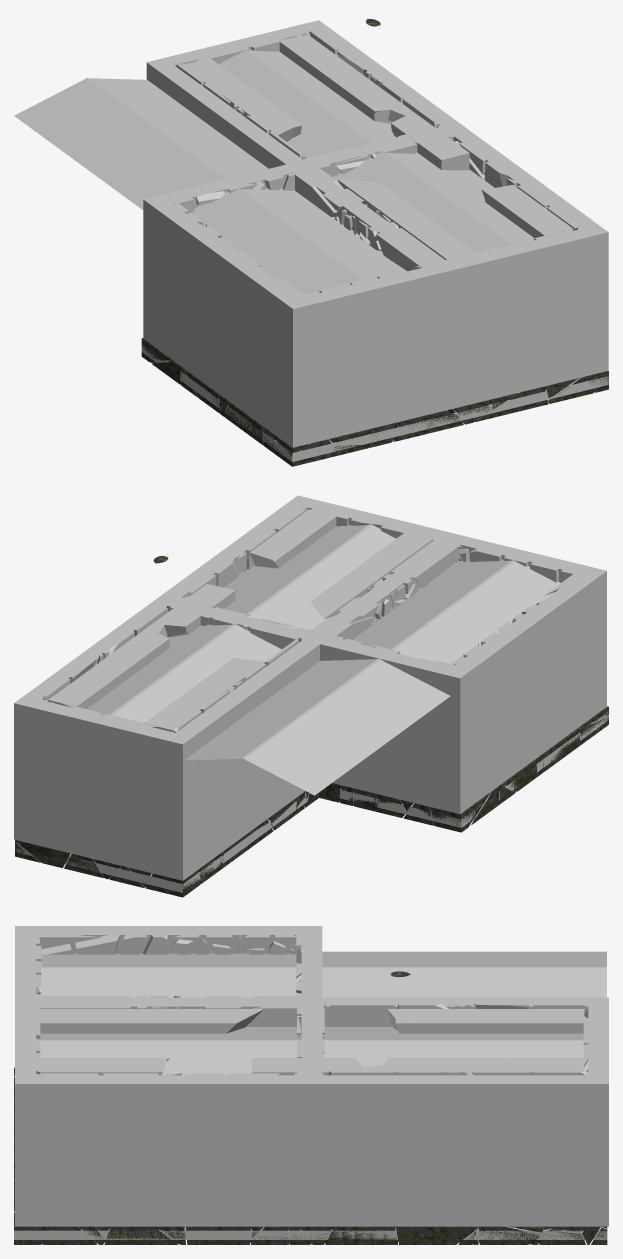
The model's file is Template.fbx.
3 renders of one model, top to bottom at view 1: azimuth 30°, elevation 25°; view 2: azimuth 150°, elevation 25°; view 3: azimuth 270°, elevation 25°, orthographic. The views are drawn at different scales.
Visible parts, largest first — view 1: roof0.001, Wall, Wall.004, Wall.002, roof0, Cube_cell, Gate0.001, FloorCells, Wall.001, Floor, Gate0, Lp_cell.001_cell (+4 smaller); view 2: roof0.001, Gate0, Wall.002, roof0, Wall, Cube_cell, Wall.001, FloorCells, Gate0.001, Floor, Lp_cell.001_cell, Wall.004 (+5 smaller); view 3: Gate0.001, Wall.001, roof0.001, Cube_cell, roof0, Gate0, FloorCells, Floor, Wall.004, Wall.003_cell.003_cell, Lp_cell.001_cell, Wall.002 (+5 smaller).
Part boxes in pixels (x1,y1,x2,y2): roof0.001: (14,77,406,294); Wall: (143,164,436,447); Wall.004: (426,225,608,412); Wall.002: (153,202,298,439); roof0: (219,49,533,252); Cube_cell: (182,34,573,259); Gate0.001: (292,130,597,271); FloorCells: (141,338,608,466); Wall.001: (156,27,458,168); Floor: (141,344,608,461); Gate0: (146,20,468,177); Lp_cell.001_cell: (175,31,440,159); roof0.001: (184,559,560,795); Gate0: (14,595,329,880); Wall.002: (453,575,597,806); roof0: (87,524,395,722); Wall: (320,536,606,813); Cube_cell: (48,509,432,732); Wall.001: (24,603,319,873); FloorCells: (15,706,608,897); Gate0.001: (161,502,460,639); Floor: (15,712,608,892); Lp_cell.001_cell: (42,605,301,732); Wall.004: (288,495,466,543); Gate0.001: (36,995,301,1226); Wall.001: (322,997,588,1226); roof0.001: (41,951,606,997); Cube_cell: (40,1009,584,1075); roof0: (37,1026,588,1075); Gate0: (301,997,608,1226); FloorCells: (14,1067,607,1244); Floor: (14,1076,607,1239); Wall.004: (15,997,35,1226); Wall.003_cell.003_cell: (36,934,297,954); Lp_cell.001_cell: (324,1003,586,1075); Wall.002: (36,926,301,953).
Size of the model in its own units: 3608 by 2619 by 5724.
